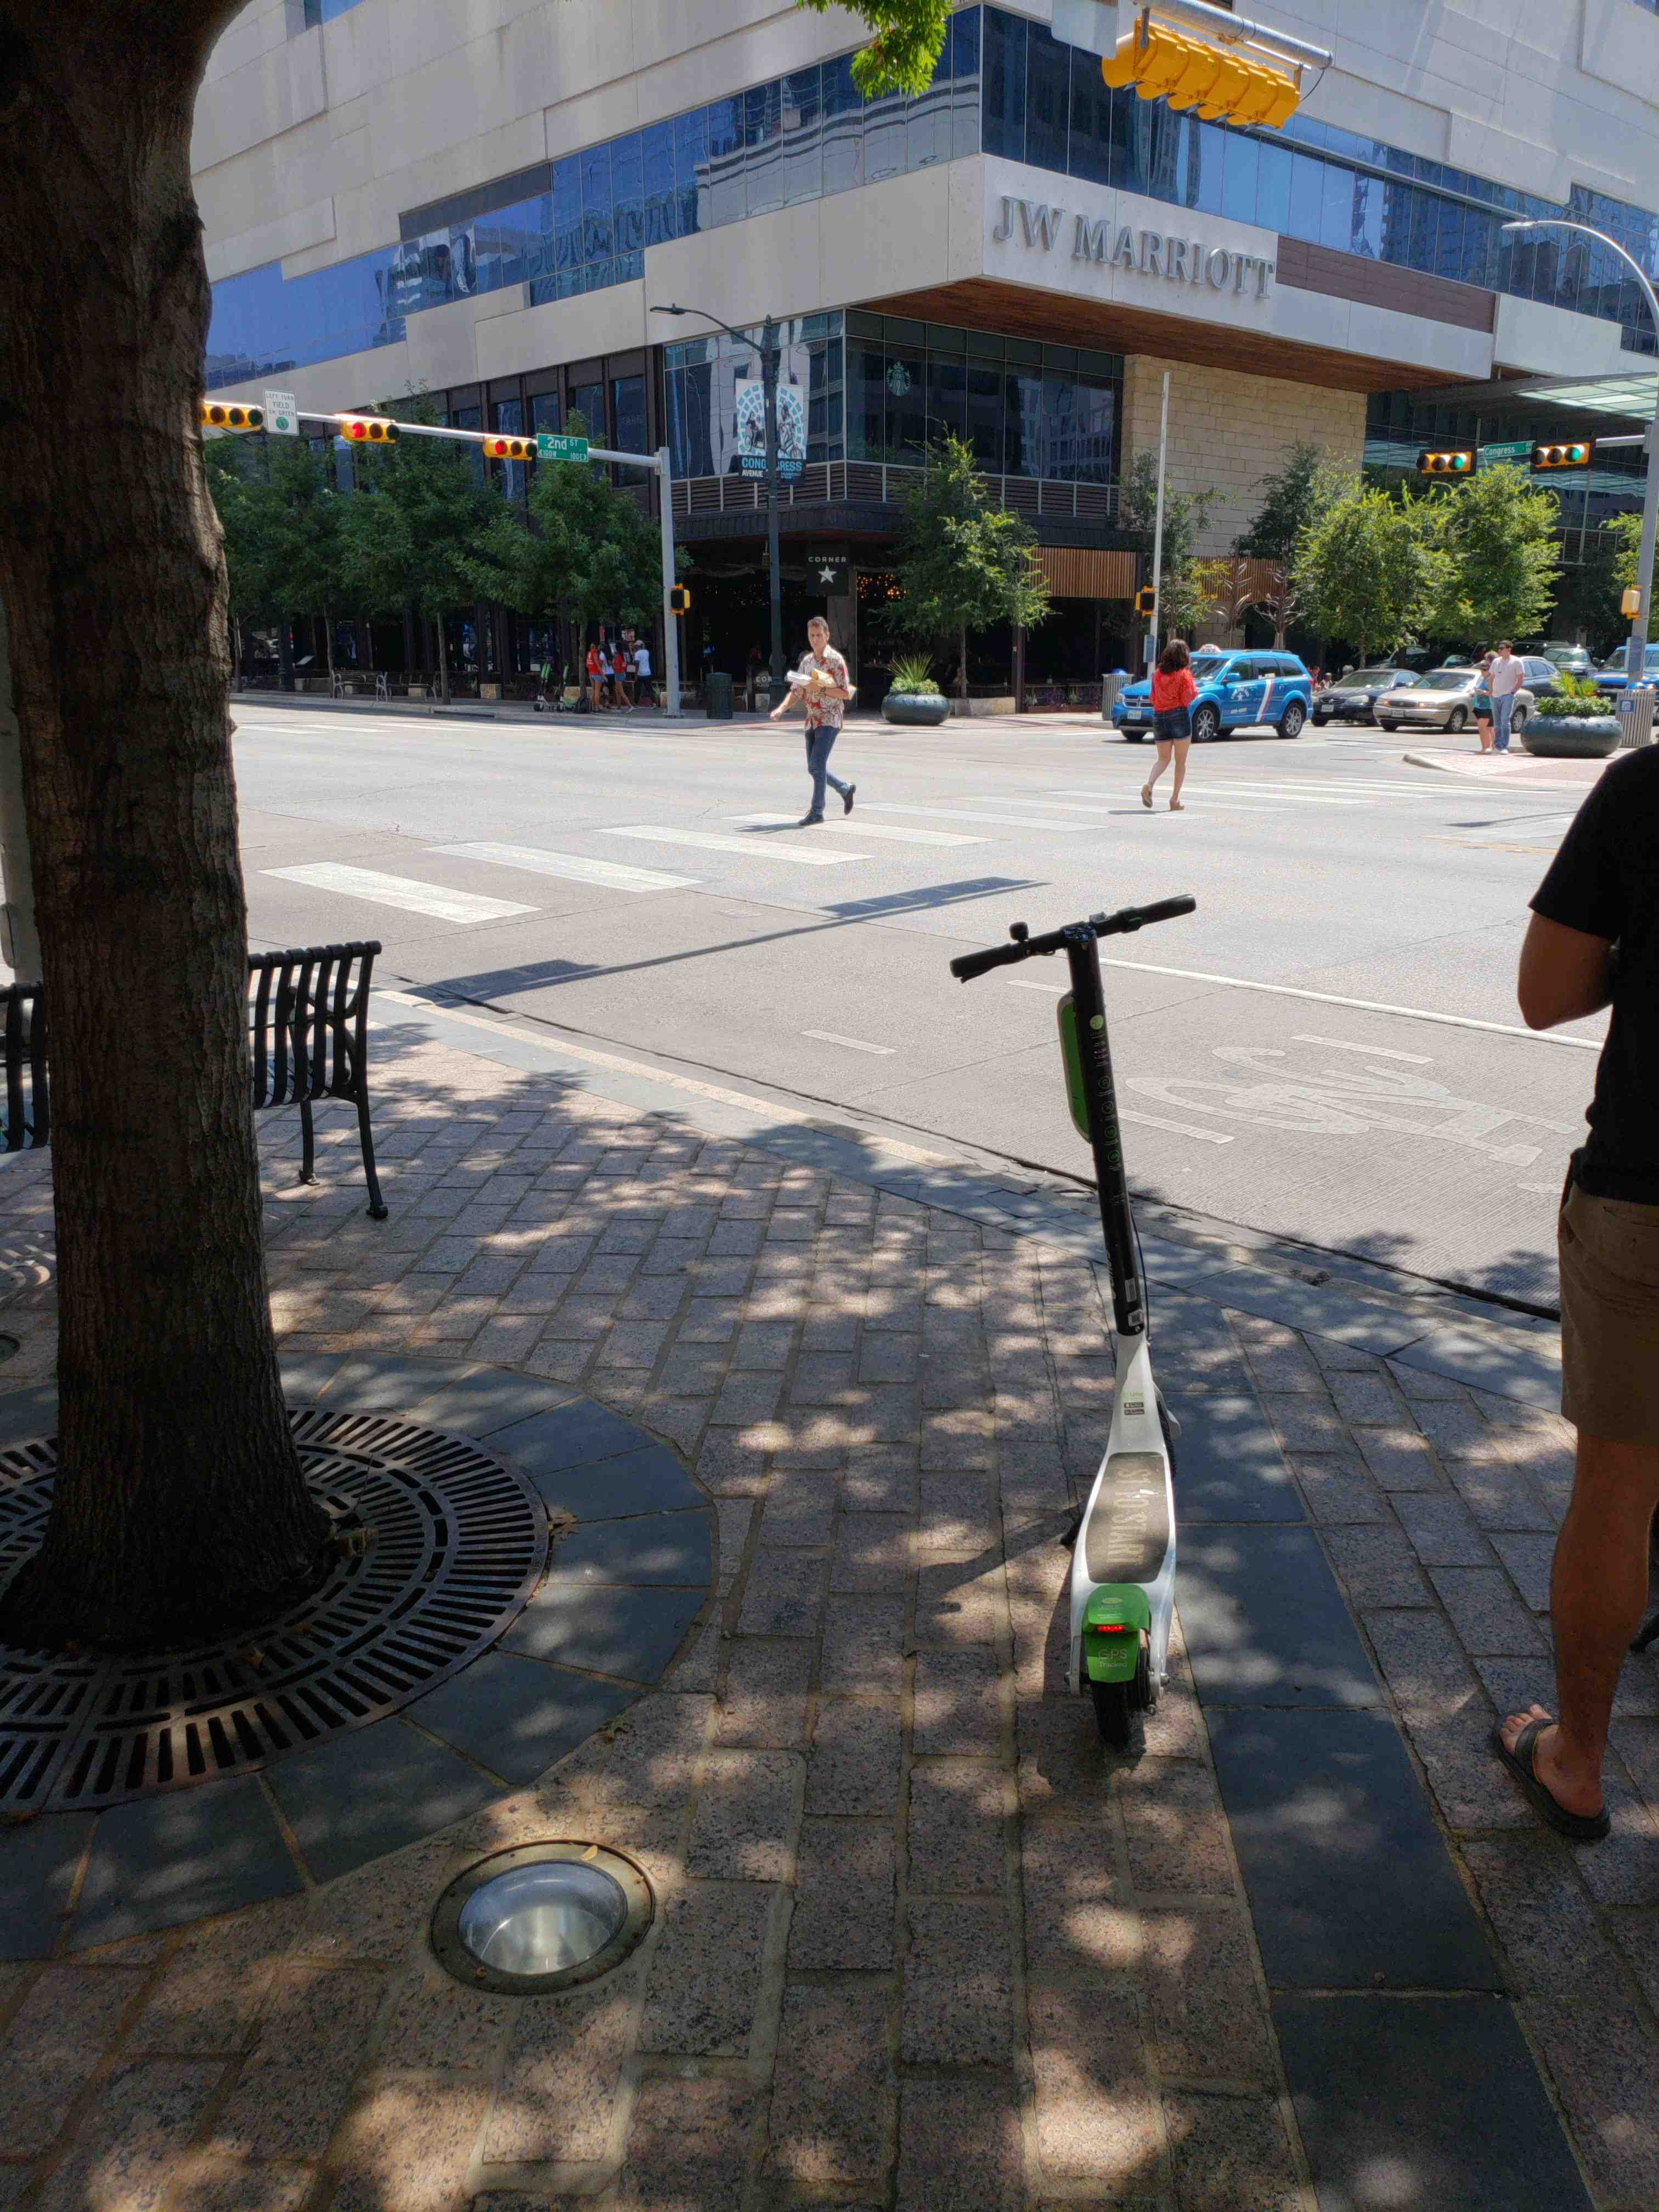scooter: (894, 899, 1270, 1747)
